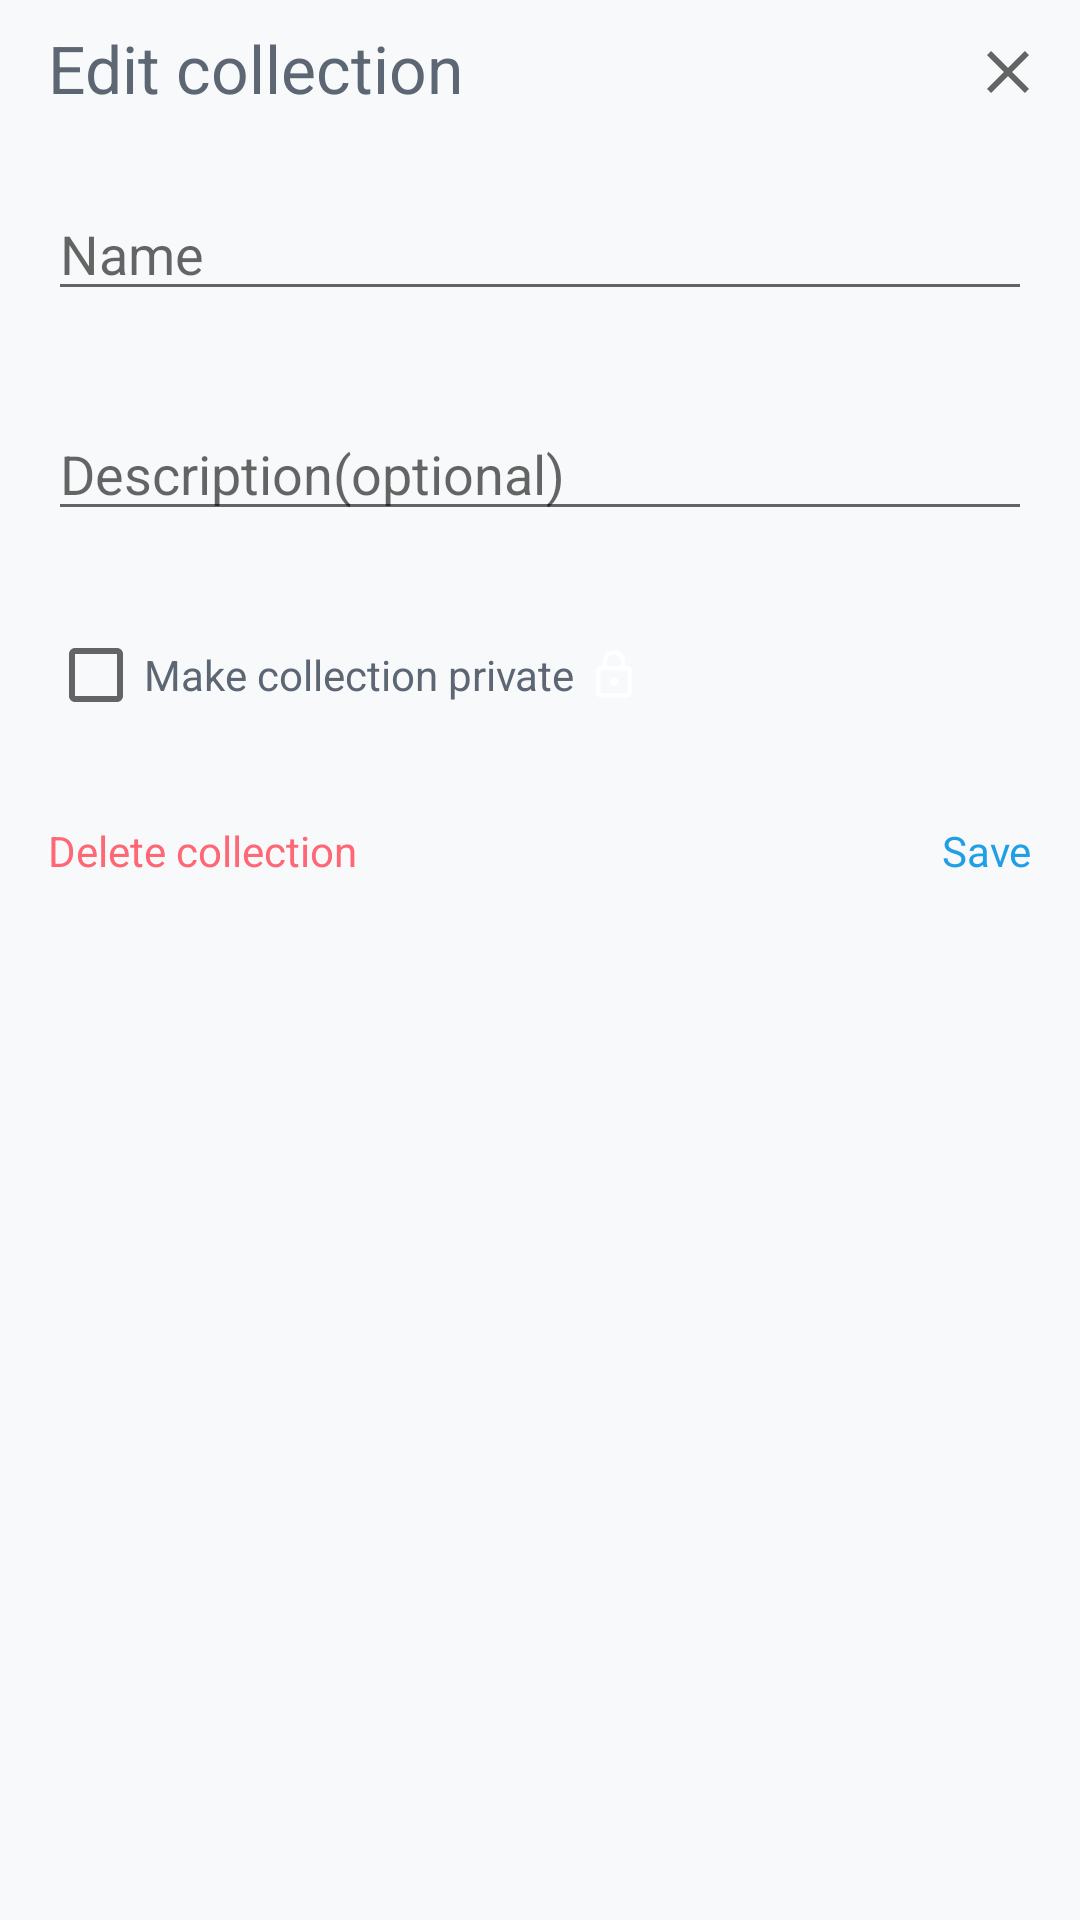

Icons on this 1080px×1920px Android screen, each with the point to tap as (x,y):
clear: (1008,72)
